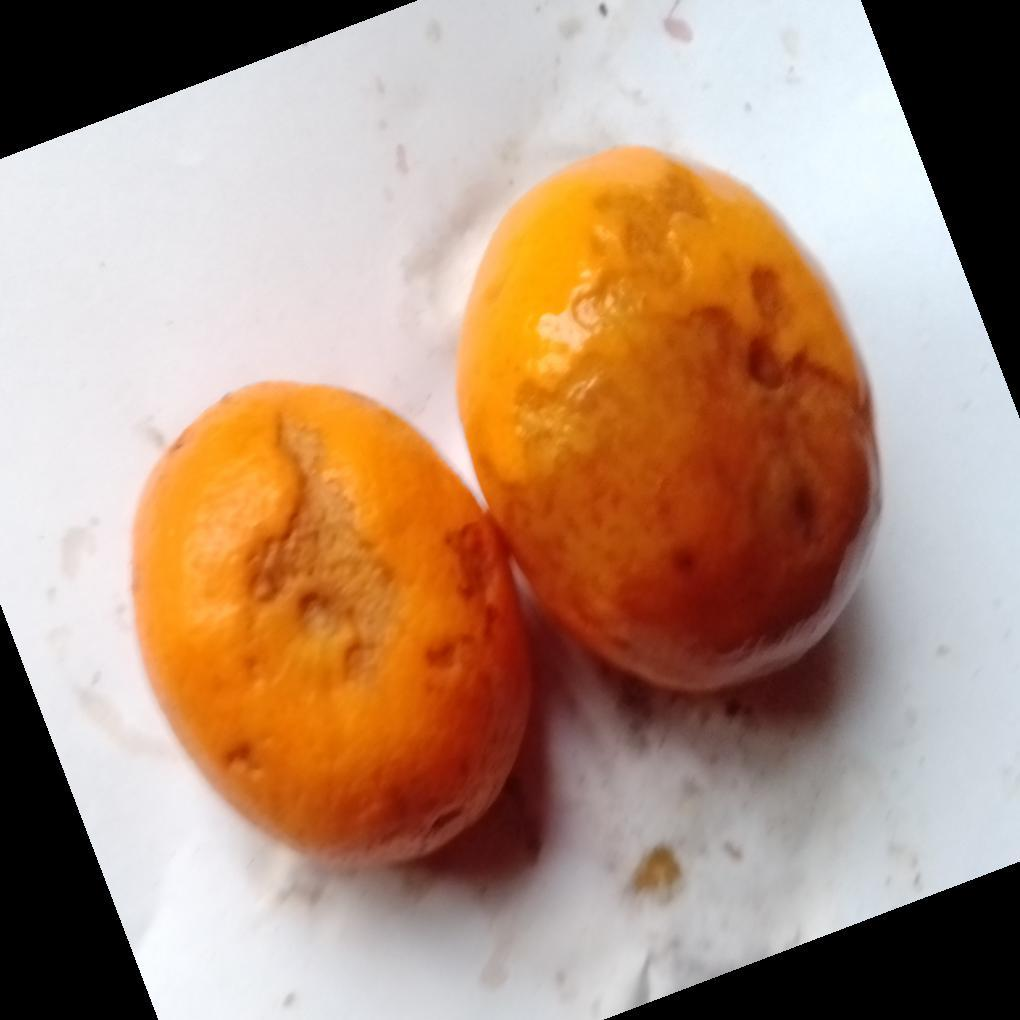FreshOrange: (127, 146, 884, 876)
